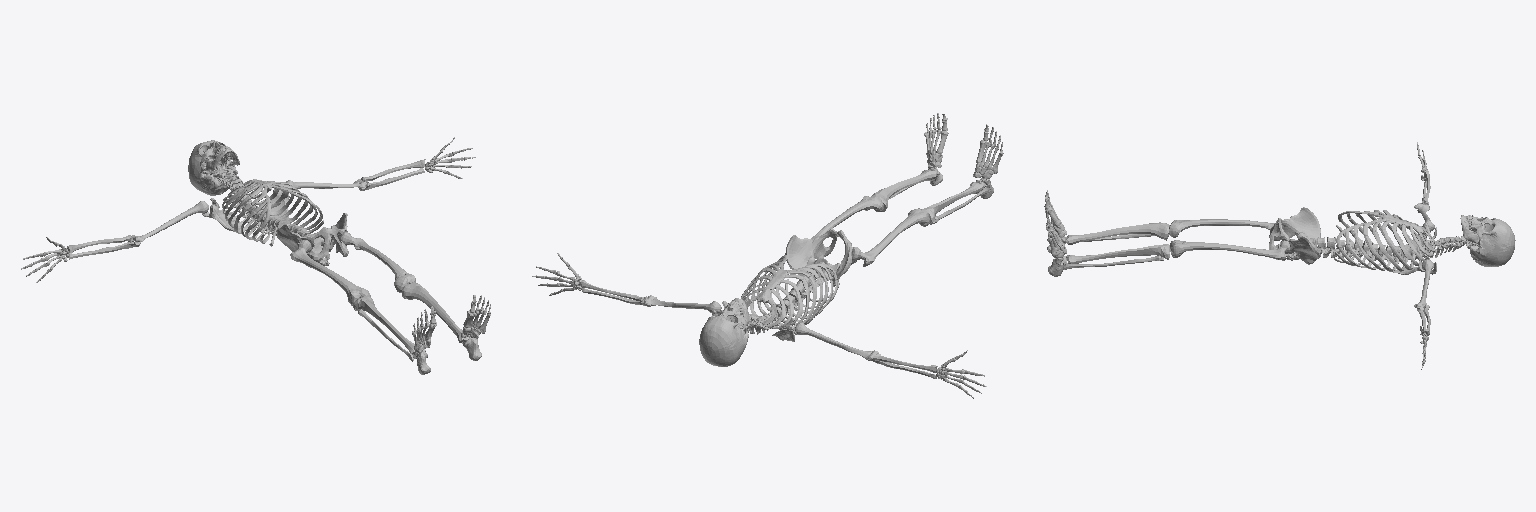
robot.urdf — human_skeleton:
<?xml version="1.0" encoding="utf-8"?>
<!-- This URDF was automatically created by SolidWorks to URDF Exporter! Originally created by Stephen Brawner ([email redacted])
     Commit Version: 1.6.0-1-g15f4949  Build Version: 1.6.7594.29634
     For more information, please see http://wiki.ros.org/sw_urdf_exporter -->
<robot name="human_skeleton">
  <link name="link_pelvis">
    <inertial>
      <origin xyz="0 -0.095 0" rpy="0 0 0" />
      <mass value="9.5305" />
      <inertia ixx="0.0714" ixy="0" ixz="0" iyy="0.0714" iyz="0" izz="0.0714" />
    </inertial>
    <visual>
      <origin xyz="0 0.105 -0.01" rpy="0 0 0" />
      <geometry>
        <mesh filename="meshes/pelvis.stl" />
      </geometry>
      <material name="material_pelvis">
        <color rgba="0.752941176470588 0.752941176470588 0.752941176470588 1" />
      </material>
    </visual>
    <collision>
      <origin xyz="0 0.105 -0.01" rpy="0 0 0" />
      <geometry>
        <mesh filename="meshes/pelvis.stl" />
      </geometry>
    </collision>
  </link>

  <link name="link_torso">
    <inertial>
      <origin xyz="0 0.24 -0.01" rpy="0 0 0" />
      <mass value="27.3" />
      <inertia ixx="0.4135" ixy="0" ixz="0" iyy="0.4135" iyz="0" izz="0.4135" />
    </inertial>
    <visual>
      <origin xyz="0 0.105 -0.01" rpy="0 0 0" />
      <geometry>
        <mesh filename="meshes/torso.stl" />
      </geometry>
      <material name="material_torso">
        <color rgba="0.752941176470588 0.752941176470588 0.752941176470588 1" />
      </material>
    </visual>
    <collision>
      <origin xyz="0 0.105 -0.01" rpy="0 0 0" />
      <geometry>
        <mesh filename="meshes/torso.stl" />
      </geometry>
    </collision>
  </link>

  <joint name="joint_waist" type="revolute">
    <origin xyz="0 0 0" rpy="0 0 0" />
    <parent link="link_pelvis" />
    <child link="link_torso" />
    <axis xyz="1 0 0" />
    <limit lower="-3.1416" upper="3.1416" effort="500" velocity="6.2832" />
  </joint>

  <!-- left arm -->
  <link name="link_shoulder_L1">
    <inertial>
      <origin xyz="0 0 0" rpy="0 0 0" />
      <mass value="0.001" />
      <inertia ixx="0.000001" ixy="0" ixz="0" iyy="0.000001" iyz="0" izz="0.000001" />
    </inertial>
  </link>

  <joint name="joint_shoulder_L1" type="revolute">
    <origin xyz="0.17 0.34 -0.01" rpy="0 0 0" />
    <parent link="link_torso" />
    <child link="link_shoulder_L1" />
    <axis xyz="1 0 0" />
    <limit lower="-3.1416" upper="3.1416" effort="500" velocity="6.2832" />
  </joint>

  <link name="link_shoulder_L2">
    <inertial>
      <origin xyz="0 0 0" rpy="0 0 0" />
      <mass value="0.001" />
      <inertia ixx="0.000001" ixy="0" ixz="0" iyy="0.000001" iyz="0" izz="0.000001" />
    </inertial>
  </link>

  <joint name="joint_shoulder_L2" type="revolute">
    <origin xyz="0 0 0" rpy="0 0 0" />
    <parent link="link_shoulder_L1" />
    <child link="link_shoulder_L2" />
    <axis xyz="0 0 1" />
    <limit lower="-3.1416" upper="3.1416" effort="500" velocity="6.2832" />
  </joint>

  <link name="link_upper_arm_L">
    <inertial>
      <origin xyz="0.13 0 0" rpy="0 0 0" />
      <mass value="1.7010" />
      <inertia ixx="0.004" ixy="0" ixz="0" iyy="0.004" iyz="0" izz="0.004" />
    </inertial>
    <visual>
      <origin xyz="-0.17 -0.235 0" rpy="0 0 0" />
      <geometry>
        <mesh filename="meshes/upper_arm_L.stl" />
      </geometry>
      <material name="material_upper_arm_L">
        <color rgba="0.752941176470588 0.752941176470588 0.752941176470588 1" />
      </material>
    </visual>
    <collision>
      <origin xyz="-0.17 -0.235 0" rpy="0 0 0" />
      <geometry>
        <mesh filename="meshes/upper_arm_L.stl" />
      </geometry>
    </collision>
  </link>

  <joint name="joint_shoulder_L3" type="revolute">
    <origin xyz="0 0 0" rpy="0 0 0" />
    <parent link="link_shoulder_L2" />
    <child link="link_upper_arm_L" />
    <axis xyz="1 0 0" />
    <limit lower="-3.1416" upper="3.1416" effort="500" velocity="6.2832" />
  </joint>

  <link name="link_elbow_L1">
    <inertial>
      <origin xyz="0 0 0" rpy="0 0 0" />
      <mass value="0.001" />
      <inertia ixx="0.000001" ixy="0" ixz="0" iyy="0.000001" iyz="0" izz="0.000001" />
    </inertial>
  </link>

  <joint name="joint_elbow_L1" type="revolute">
    <origin xyz="0.27 -0.015 -0.05" rpy="0 0 0" />
    <parent link="link_upper_arm_L" />
    <child link="link_elbow_L1" />
    <axis xyz="0 1 0" />
    <limit lower="-3.1416" upper="3.1416" effort="500" velocity="6.2832" />
  </joint>

  <link name="link_forearm_L">
    <inertial>
      <origin xyz="0.12 0 0" rpy="0 0 0" />
      <mass value="0.8750" />
      <inertia ixx="0.0013" ixy="0" ixz="0" iyy="0.0013" iyz="0" izz="0.0013" />
    </inertial>
    <visual>
      <origin xyz="-0.44 -0.22 0.05" rpy="0 0 0" />
      <geometry>
        <mesh filename="meshes/forearm_L.stl" />
      </geometry>
      <material name="material_forearm_L">
        <color rgba="0.752941176470588 0.752941176470588 0.752941176470588 1" />
      </material>
    </visual>
    <collision>
      <origin xyz="-0.44 -0.22 0.05" rpy="0 0 0" />
      <geometry>
        <mesh filename="meshes/forearm_L.stl" />
      </geometry>
    </collision>
  </link>

  <joint name="joint_elbow_L2" type="revolute">
    <origin xyz="0 0 0" rpy="0 0 0" />
    <parent link="link_elbow_L1" />
    <child link="link_forearm_L" />
    <axis xyz="1 0 0" />
    <limit lower="-3.1416" upper="3.1416" effort="500" velocity="6.2832" />
  </joint>

  <link name="link_wrist_L1">
    <inertial>
      <origin xyz="0 0 0" rpy="0 0 0" />
      <mass value="0.001" />
      <inertia ixx="0.000001" ixy="0" ixz="0" iyy="0.000001" iyz="0" izz="0.000001" />
    </inertial>
  </link>

  <joint name="joint_wrist_L1" type="revolute">
    <origin xyz="0.25 0.01 0" rpy="0 0 0" />
    <parent link="link_forearm_L" />
    <child link="link_wrist_L1" />
    <axis xyz="0 1 0" />
    <limit lower="-3.1416" upper="3.1416" effort="500" velocity="6.2832" />
  </joint>
  
  <link name="link_hand_L">
    <inertial>
      <origin xyz="0.05 0 0" rpy="0 0 0" />
      <mass value="0.4480" />
      <inertia ixx="0.00043717" ixy="0" ixz="0" iyy="0.00043717" iyz="0" izz="0.00043717" />
    </inertial>
    <visual>
      <origin xyz="-0.69 -0.23 0.05" rpy="0 0 0" />
      <geometry>
        <mesh filename="meshes/hand_L.stl" />
      </geometry>
      <material name="material_hand_L">
        <color rgba="0.752941176470588 0.752941176470588 0.752941176470588 1" />
      </material>
    </visual>
    <collision>
      <origin xyz="-0.69 -0.23 0.05" rpy="0 0 0" />
      <geometry>
        <mesh filename="meshes/hand_L.stl" />
      </geometry>
    </collision>
  </link>

  <joint name="joint_wrist_L2" type="revolute">
    <origin xyz="0 0 0" rpy="0 0 0" />
    <parent link="link_wrist_L1" />
    <child link="link_hand_L" />
    <axis xyz="0 0 1" />
    <limit lower="-3.1416" upper="3.1416" effort="500" velocity="6.2832" />
  </joint>

  <!-- right arm -->
  <link name="link_shoulder_R1">
    <inertial>
      <origin xyz="0 0 0" rpy="0 0 0" />
      <mass value="0.001" />
      <inertia ixx="0.000001" ixy="0" ixz="0" iyy="0.000001" iyz="0" izz="0.000001" />
    </inertial>
  </link>

  <joint name="joint_shoulder_R1" type="revolute">
    <origin xyz="-0.17 0.34 -0.01" rpy="0 0 0" />
    <parent link="link_torso" />
    <child link="link_shoulder_R1" />
    <axis xyz="1 0 0" />
    <limit lower="-3.1416" upper="3.1416" effort="500" velocity="6.2832" />
  </joint>

  <link name="link_shoulder_R2">
    <inertial>
      <origin xyz="0 0 0" rpy="0 0 0" />
      <mass value="0.001" />
      <inertia ixx="0.000001" ixy="0" ixz="0" iyy="0.000001" iyz="0" izz="0.000001" />
    </inertial>
  </link>

  <joint name="joint_shoulder_R2" type="revolute">
    <origin xyz="0 0 0" rpy="0 0 0" />
    <parent link="link_shoulder_R1" />
    <child link="link_shoulder_R2" />
    <axis xyz="0 0 1" />
    <limit lower="-3.1416" upper="3.1416" effort="500" velocity="6.2832" />
  </joint>

  <link name="link_upper_arm_R">
    <inertial>
      <origin xyz="-0.13 0 0" rpy="0 0 0" />
      <mass value="1.7010" />
      <inertia ixx="0.004" ixy="0" ixz="0" iyy="0.004" iyz="0" izz="0.004" />
    </inertial>
    <visual>
      <origin xyz="0.17 -0.235 0" rpy="0 0 0" />
      <geometry>
        <mesh filename="meshes/upper_arm_R.stl" />
      </geometry>
      <material name="material_upper_arm_R">
        <color rgba="0.752941176470588 0.752941176470588 0.752941176470588 1" />
      </material>
    </visual>
    <collision>
      <origin xyz="0.17 -0.235 0" rpy="0 0 0" />
      <geometry>
        <mesh filename="meshes/upper_arm_R.stl" />
      </geometry>
    </collision>
  </link>

  <joint name="joint_shoulder_R3" type="revolute">
    <origin xyz="0 0 0" rpy="0 0 0" />
    <parent link="link_shoulder_R2" />
    <child link="link_upper_arm_R" />
    <axis xyz="1 0 0" />
    <limit lower="-3.1416" upper="3.1416" effort="500" velocity="6.2832" />
  </joint>

  <link name="link_elbow_R1">
    <inertial>
      <origin xyz="0 0 0" rpy="0 0 0" />
      <mass value="0.001" />
      <inertia ixx="0.000001" ixy="0" ixz="0" iyy="0.000001" iyz="0" izz="0.000001" />
    </inertial>
  </link>

  <joint name="joint_elbow_R1" type="revolute">
    <origin xyz="-0.27 -0.015 -0.05" rpy="0 0 0" />
    <parent link="link_upper_arm_R" />
    <child link="link_elbow_R1" />
    <axis xyz="0 1 0" />
    <limit lower="-3.1416" upper="3.1416" effort="500" velocity="6.2832" />
  </joint>

  <link name="link_forearm_R">
    <inertial>
      <origin xyz="-0.12 0 0" rpy="0 0 0" />
      <mass value="0.8750" />
      <inertia ixx="0.0013" ixy="0" ixz="0" iyy="0.0013" iyz="0" izz="0.0013" />
    </inertial>
    <visual>
      <origin xyz="0.44 -0.22 0.05" rpy="0 0 0" />
      <geometry>
        <mesh filename="meshes/forearm_R.stl" />
      </geometry>
      <material name="material_forearm_R">
        <color rgba="0.752941176470588 0.752941176470588 0.752941176470588 1" />
      </material>
    </visual>
    <collision>
      <origin xyz="0.44 -0.22 0.05" rpy="0 0 0" />
      <geometry>
        <mesh filename="meshes/forearm_R.stl" />
      </geometry>
    </collision>
  </link>

  <joint name="joint_elbow_R2" type="revolute">
    <origin xyz="0 0 0" rpy="0 0 0" />
    <parent link="link_elbow_R1" />
    <child link="link_forearm_R" />
    <axis xyz="1 0 0" />
    <limit lower="-3.1416" upper="3.1416" effort="500" velocity="6.2832" />
  </joint>

  <link name="link_wrist_R1">
    <inertial>
      <origin xyz="0 0 0" rpy="0 0 0" />
      <mass value="0.001" />
      <inertia ixx="0.000001" ixy="0" ixz="0" iyy="0.000001" iyz="0" izz="0.000001" />
    </inertial>
  </link>

  <joint name="joint_wrist_R1" type="revolute">
    <origin xyz="-0.25 0.01 0" rpy="0 0 0" />
    <parent link="link_forearm_R" />
    <child link="link_wrist_R1" />
    <axis xyz="0 1 0" />
    <limit lower="-3.1416" upper="3.1416" effort="500" velocity="6.2832" />
  </joint>
  
  <link name="link_hand_R">
    <inertial>
      <origin xyz="-0.05 0 0" rpy="0 0 0" />
      <mass value="0.4480" />
      <inertia ixx="0.00043717" ixy="0" ixz="0" iyy="0.00043717" iyz="0" izz="0.00043717" />
    </inertial>
    <visual>
      <origin xyz="0.69 -0.23 0.05" rpy="0 0 0" />
      <geometry>
        <mesh filename="meshes/hand_R.stl" />
      </geometry>
      <material name="material_hand_R">
        <color rgba="0.752941176470588 0.752941176470588 0.752941176470588 1" />
      </material>
    </visual>
    <collision>
      <origin xyz="0.69 -0.23 0.05" rpy="0 0 0" />
      <geometry>
        <mesh filename="meshes/hand_R.stl" />
      </geometry>
    </collision>
  </link>

  <joint name="joint_wrist_R2" type="revolute">
    <origin xyz="0 0 0" rpy="0 0 0" />
    <parent link="link_wrist_R1" />
    <child link="link_hand_R" />
    <axis xyz="0 0 1" />
    <limit lower="-3.1416" upper="3.1416" effort="500" velocity="6.2832" />
  </joint>

  <!-- left leg -->
  <link name="link_hip_L1">
    <inertial>
      <origin xyz="0 0 0" rpy="0 0 0" />
      <mass value="0.001" />
      <inertia ixx="0.000001" ixy="0" ixz="0" iyy="0.000001" iyz="0" izz="0.000001" />
    </inertial>
  </link>

  <joint name="joint_hip_L1" type="revolute">
    <origin xyz="0.08 -0.185 0.02" rpy="0 0 0" />
    <parent link="link_pelvis" />
    <child link="link_hip_L1" />
    <axis xyz="1 0 0" />
    <limit lower="-3.1416" upper="3.1416" effort="500" velocity="6.2832" />
  </joint>

  <link name="link_hip_L2">
    <inertial>
      <origin xyz="0 0 0" rpy="0 0 0" />
      <mass value="0.001" />
      <inertia ixx="0.000001" ixy="0" ixz="0" iyy="0.000001" iyz="0" izz="0.000001" />
    </inertial>
  </link>

  <joint name="joint_hip_L2" type="revolute">
    <origin xyz="0 0 0" rpy="0 0 0" />
    <parent link="link_hip_L1" />
    <child link="link_hip_L2" />
    <axis xyz="0 0 1" />
    <limit lower="-3.1416" upper="3.1416" effort="500" velocity="6.2832" />
  </joint>

  <link name="link_thigh_L">
    <inertial>
      <origin xyz="0 -0.2 0" rpy="0 0 0" />
      <mass value="9.9330" />
      <inertia ixx="0.0765" ixy="0" ixz="0" iyy="0.0765" iyz="0" izz="0.0765" />
    </inertial>
    <visual>
      <origin xyz="-0.08 0.29 -0.03" rpy="0 0 0" />
      <geometry>
        <mesh filename="meshes/thigh_L.stl" />
      </geometry>
      <material name="material_thigh_L">
        <color rgba="0.752941176470588 0.752941176470588 0.752941176470588 1" />
      </material>
    </visual>
    <collision>
      <origin xyz="-0.08 0.29 -0.03" rpy="0 0 0" />
      <geometry>
        <mesh filename="meshes/thigh_L.stl" />
      </geometry>
    </collision>
  </link>

  <joint name="joint_hip_L3" type="revolute">
    <origin xyz="0 0 0" rpy="0 0 0" />
    <parent link="link_hip_L2" />
    <child link="link_thigh_L" />
    <axis xyz="0 1 0" />
    <limit lower="-3.1416" upper="3.1416" effort="500" velocity="6.2832" />
  </joint>

  <link name="link_shank_L">
    <inertial>
      <origin xyz="0 -0.17 0" rpy="0 0 0" />
      <mass value="2.5690" />
      <inertia ixx="0.008" ixy="0" ixz="0" iyy="0.008" iyz="0" izz="0.008" />
    </inertial>
    <visual>
      <origin xyz="-0.09 0.72 -0.02" rpy="0 0 0" />
      <geometry>
        <mesh filename="meshes/shank_L.stl" />
      </geometry>
      <material name="material_shank_L">
        <color rgba="0.752941176470588 0.752941176470588 0.752941176470588 1" />
      </material>
    </visual>
    <collision>
      <origin xyz="-0.09 0.72 -0.02" rpy="0 0 0" />
      <geometry>
        <mesh filename="meshes/shank_L.stl" />
      </geometry>
    </collision>
  </link>

  <joint name="joint_knee_L" type="revolute">
    <origin xyz="0.01 -0.43 -0.01" rpy="0 0 0" />
    <parent link="link_thigh_L" />
    <child link="link_shank_L" />
    <axis xyz="1 0 0" />
    <limit lower="-3.1416" upper="3.1416" effort="500" velocity="6.2832" />
  </joint>

  <link name="link_ankle_L1">
    <inertial>
      <origin xyz="0 0 0" rpy="0 0 0" />
      <mass value="0.001" />
      <inertia ixx="0.000001" ixy="0" ixz="0" iyy="0.000001" iyz="0" izz="0.000001" />
    </inertial>
  </link>

  <joint name="joint_ankle_L1" type="revolute">
    <origin xyz="0 -0.37 -0.045" rpy="0 0 0" />
    <parent link="link_shank_L" />
    <child link="link_ankle_L1" />
    <axis xyz="1 0 0" />
    <limit lower="-3.1416" upper="3.1416" effort="500" velocity="6.2832" />
  </joint>

  <link name="link_foot_L">
    <inertial>
      <origin xyz="0 -0.1 0" rpy="0 0 0" />
      <mass value="1.0360" />
      <inertia ixx="0.0018" ixy="0" ixz="0" iyy="0.0018" iyz="0" izz="0.0018" />
    </inertial>
    <visual>
      <origin xyz="-0.09 1.09 0.025" rpy="0 0 0" />
      <geometry>
        <mesh filename="meshes/foot_L.stl" />
      </geometry>
      <material name="material_foot_L">
        <color rgba="0.752941176470588 0.752941176470588 0.752941176470588 1" />
      </material>
    </visual>
    <collision>
      <origin xyz="-0.09 1.09 0.025" rpy="0 0 0" />
      <geometry>
        <mesh filename="meshes/foot_L.stl" />
      </geometry>
    </collision>
  </link>
  
  <joint name="joint_ankle_L2" type="revolute">
    <origin xyz="0 0 0" rpy="0 0 0" />
    <parent link="link_ankle_L1" />
    <child link="link_foot_L" />
    <axis xyz="0 0 1" />
    <limit lower="-3.1416" upper="3.1416" effort="500" velocity="6.2832" />
  </joint>

  <!-- right leg -->
  <link name="link_hip_R1">
    <inertial>
      <origin xyz="0 0 0" rpy="0 0 0" />
      <mass value="0.001" />
      <inertia ixx="0.000001" ixy="0" ixz="0" iyy="0.000001" iyz="0" izz="0.000001" />
    </inertial>
  </link>

  <joint name="joint_hip_R1" type="revolute">
    <origin xyz="-0.08 -0.185 0.02" rpy="0 0 0" />
    <parent link="link_pelvis" />
    <child link="link_hip_R1" />
    <axis xyz="1 0 0" />
    <limit lower="-3.1416" upper="3.1416" effort="500" velocity="6.2832" />
  </joint>

  <link name="link_hip_R2">
    <inertial>
      <origin xyz="0 0 0" rpy="0 0 0" />
      <mass value="0.001" />
      <inertia ixx="0.000001" ixy="0" ixz="0" iyy="0.000001" iyz="0" izz="0.000001" />
    </inertial>
  </link>

  <joint name="joint_hip_R2" type="revolute">
    <origin xyz="0 0 0" rpy="0 0 0" />
    <parent link="link_hip_R1" />
    <child link="link_hip_R2" />
    <axis xyz="0 0 1" />
    <limit lower="-3.1416" upper="3.1416" effort="500" velocity="6.2832" />
  </joint>

  <link name="link_thigh_R">
    <inertial>
      <origin xyz="0 -0.2 0" rpy="0 0 0" />
      <mass value="9.9330" />
      <inertia ixx="0.0765" ixy="0" ixz="0" iyy="0.0765" iyz="0" izz="0.0765" />
    </inertial>
    <visual>
      <origin xyz="0.08 0.29 -0.03" rpy="0 0 0" />
      <geometry>
        <mesh filename="meshes/thigh_R.stl" />
      </geometry>
      <material name="material_thigh_R">
        <color rgba="0.752941176470588 0.752941176470588 0.752941176470588 1" />
      </material>
    </visual>
    <collision>
      <origin xyz="0.08 0.29 -0.03" rpy="0 0 0" />
      <geometry>
        <mesh filename="meshes/thigh_R.stl" />
      </geometry>
    </collision>
  </link>

  <joint name="joint_hip_R3" type="revolute">
    <origin xyz="0 0 0" rpy="0 0 0" />
    <parent link="link_hip_R2" />
    <child link="link_thigh_R" />
    <axis xyz="0 1 0" />
    <limit lower="-3.1416" upper="3.1416" effort="500" velocity="6.2832" />
  </joint>

  <link name="link_shank_R">
    <inertial>
      <origin xyz="0 -0.17 0" rpy="0 0 0" />
      <mass value="2.5690" />
      <inertia ixx="0.008" ixy="0" ixz="0" iyy="0.008" iyz="0" izz="0.008" />
    </inertial>
    <visual>
      <origin xyz="0.09 0.72 -0.02" rpy="0 0 0" />
      <geometry>
        <mesh filename="meshes/shank_R.stl" />
      </geometry>
      <material name="material_shank_R">
        <color rgba="0.752941176470588 0.752941176470588 0.752941176470588 1" />
      </material>
    </visual>
    <collision>
      <origin xyz="0.09 0.72 -0.02" rpy="0 0 0" />
      <geometry>
        <mesh filename="meshes/shank_R.stl" />
      </geometry>
    </collision>
  </link>

  <joint name="joint_knee_R" type="revolute">
    <origin xyz="-0.01 -0.43 -0.01" rpy="0 0 0" />
    <parent link="link_thigh_R" />
    <child link="link_shank_R" />
    <axis xyz="1 0 0" />
    <limit lower="-3.1416" upper="3.1416" effort="500" velocity="6.2832" />
  </joint>

  <link name="link_ankle_R1">
    <inertial>
      <origin xyz="0 0 0" rpy="0 0 0" />
      <mass value="0.001" />
      <inertia ixx="0.000001" ixy="0" ixz="0" iyy="0.000001" iyz="0" izz="0.000001" />
    </inertial>
  </link>

  <joint name="joint_ankle_R1" type="revolute">
    <origin xyz="0 -0.37 -0.045" rpy="0 0 0" />
    <parent link="link_shank_R" />
    <child link="link_ankle_R1" />
    <axis xyz="1 0 0" />
    <limit lower="-3.1416" upper="3.1416" effort="500" velocity="6.2832" />
  </joint>

  <link name="link_foot_R">
    <inertial>
      <origin xyz="0 -0.1 0" rpy="0 0 0" />
      <mass value="1.0360" />
      <inertia ixx="0.0018" ixy="0" ixz="0" iyy="0.0018" iyz="0" izz="0.0018" />
    </inertial>
    <visual>
      <origin xyz="0.09 1.09 0.025" rpy="0 0 0" />
      <geometry>
        <mesh filename="meshes/foot_R.stl" />
      </geometry>
      <material name="material_foot_R">
        <color rgba="0.752941176470588 0.752941176470588 0.752941176470588 1" />
      </material>
    </visual>
    <collision>
      <origin xyz="0.09 1.09 0.025" rpy="0 0 0" />
      <geometry>
        <mesh filename="meshes/foot_R.stl" />
      </geometry>
    </collision>
  </link>
  
  <joint name="joint_ankle_R2" type="revolute">
    <origin xyz="0 0 0" rpy="0 0 0" />
    <parent link="link_ankle_R1" />
    <child link="link_foot_R" />
    <axis xyz="0 0 1" />
    <limit lower="-3.1416" upper="3.1416" effort="500" velocity="6.2832" />
  </joint>
</robot>

--- What the picture shows (computed from the rendered views, not written in the file) ---
Views: 3 orthographic renders of the robot side by side, from view 1: azimuth 30°, elevation 25°; view 2: azimuth 150°, elevation 25°; view 3: azimuth 270°, elevation 25°.
Robot: human_skeleton — 28 links, 27 joints (27 revolute); root link link_pelvis; default pose: every joint at zero.
Links seen in each view (by area): view 1: link_torso, link_pelvis, link_foot_L, link_shank_R, link_thigh_R, link_foot_R, link_shank_L, link_thigh_L, link_forearm_R, link_forearm_L, link_hand_R, link_hand_L (+1 smaller); view 2: link_torso, link_pelvis, link_foot_R, link_foot_L, link_thigh_R, link_shank_R, link_shank_L, link_thigh_L, link_hand_R, link_upper_arm_R, link_hand_L, link_forearm_L (+1 smaller); view 3: link_torso, link_pelvis, link_shank_L, link_shank_R, link_thigh_L, link_thigh_R, link_foot_L.
Link boxes in pixels (x1,y1,x2,y2): link_torso: (188,140,323,246); link_pelvis: (277,213,348,265); link_foot_L: (460,295,490,360); link_shank_R: (353,293,415,358); link_thigh_R: (290,243,370,305); link_foot_R: (410,306,436,374); link_shank_L: (401,283,469,343); link_thigh_L: (346,233,415,292); link_forearm_R: (67,235,140,259); link_forearm_L: (359,159,425,190); link_hand_R: (21,237,68,282); link_hand_L: (425,137,475,178); link_torso: (699,255,839,366); link_pelvis: (785,228,859,289); link_foot_R: (973,124,1003,198); link_foot_L: (924,113,948,185); link_thigh_R: (856,208,929,266); link_shank_R: (921,182,986,224); link_shank_L: (871,170,936,211); link_thigh_L: (811,196,883,238); link_hand_R: (936,350,986,398); link_upper_arm_R: (795,322,878,360); link_hand_L: (532,253,582,295); link_forearm_L: (579,280,650,306); link_torso: (1331,210,1515,274); link_pelvis: (1269,207,1335,264); link_shank_L: (1067,244,1170,268); link_shank_R: (1067,222,1169,244); link_thigh_L: (1170,240,1289,260); link_thigh_R: (1170,219,1274,237); link_foot_L: (1046,210,1066,276).
Size in the robot's own frame: 1.79 by 1.75 by 0.3024 metres.
14 mesh visuals loaded from 14 distinct referenced files (14 binary STL).
